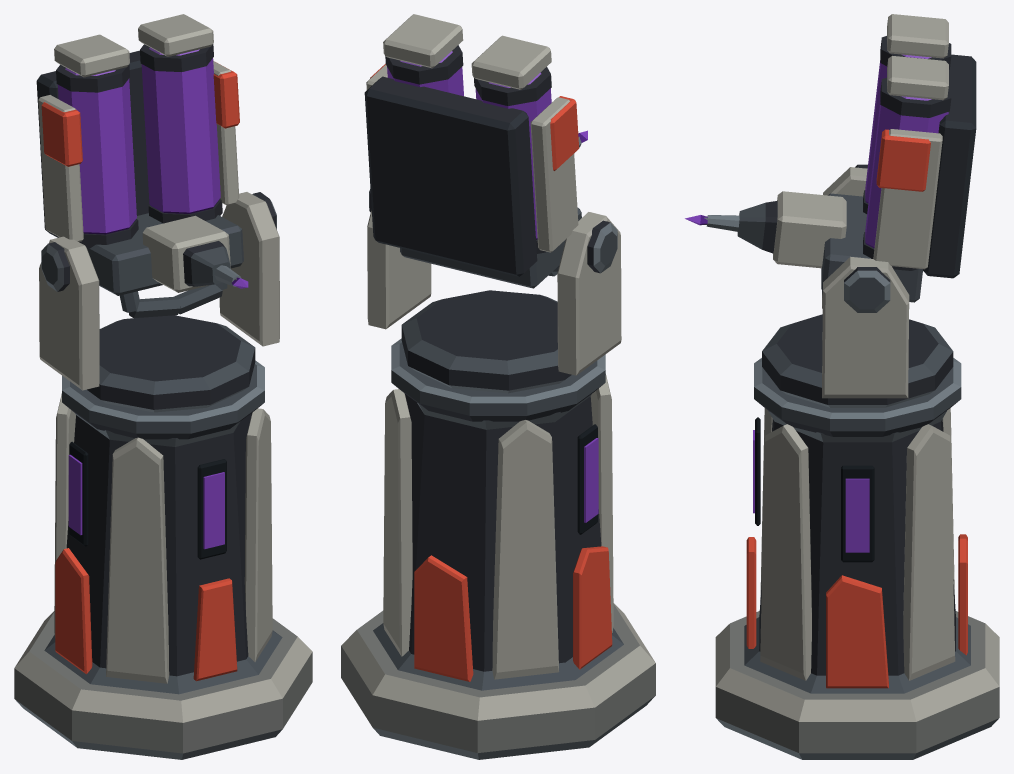
File: lv4_acide.glb
3 views of the same model, side by side, from view 1: azimuth 30°, elevation 25°; view 2: azimuth 150°, elevation 25°; view 3: azimuth 270°, elevation 25° (orthographic). The views are drawn at different scales.
Visible parts, largest first — view 1: Base, Barrel_Recoil, Turret_Yaw, Base_TeamColor, Team_Panels; view 2: Base, Barrel_Recoil, Turret_Yaw, Base_TeamColor, Team_Panels; view 3: Base, Barrel_Recoil, Turret_Yaw, Base_TeamColor, Team_Panels.
Part boxes in pixels (<box>): Base: <box>14,360,312,759</box>; Barrel_Recoil: <box>36,14,248,317</box>; Turret_Yaw: <box>39,192,279,412</box>; Base_TeamColor: <box>55,548,237,681</box>; Team_Panels: <box>41,64,239,166</box>; Base: <box>341,338,655,759</box>; Barrel_Recoil: <box>364,14,587,288</box>; Turret_Yaw: <box>367,189,621,393</box>; Base_TeamColor: <box>414,546,612,681</box>; Team_Panels: <box>370,64,579,170</box>; Base: <box>715,358,999,759</box>; Barrel_Recoil: <box>685,14,976,302</box>; Turret_Yaw: <box>762,164,953,407</box>; Base_TeamColor: <box>746,534,967,688</box>; Team_Panels: <box>876,129,930,191</box>.
Bounding box in the file's own units: 1.37 × 3.5 × 1.52.
